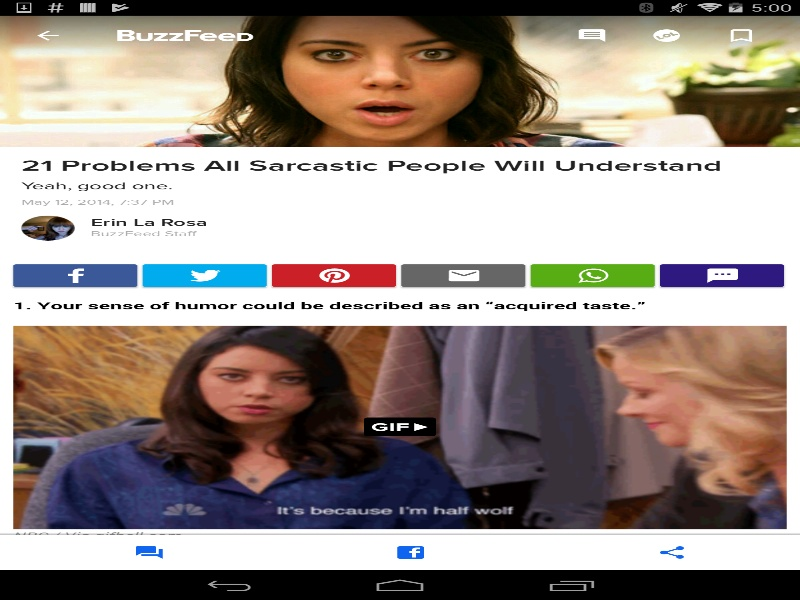Button: (21, 537, 277, 567), (282, 537, 538, 567), (544, 537, 800, 567), (10, 15, 85, 55), (13, 264, 137, 286), (142, 264, 266, 286), (272, 264, 396, 286), (401, 264, 525, 286), (530, 264, 654, 286), (660, 264, 784, 286)
